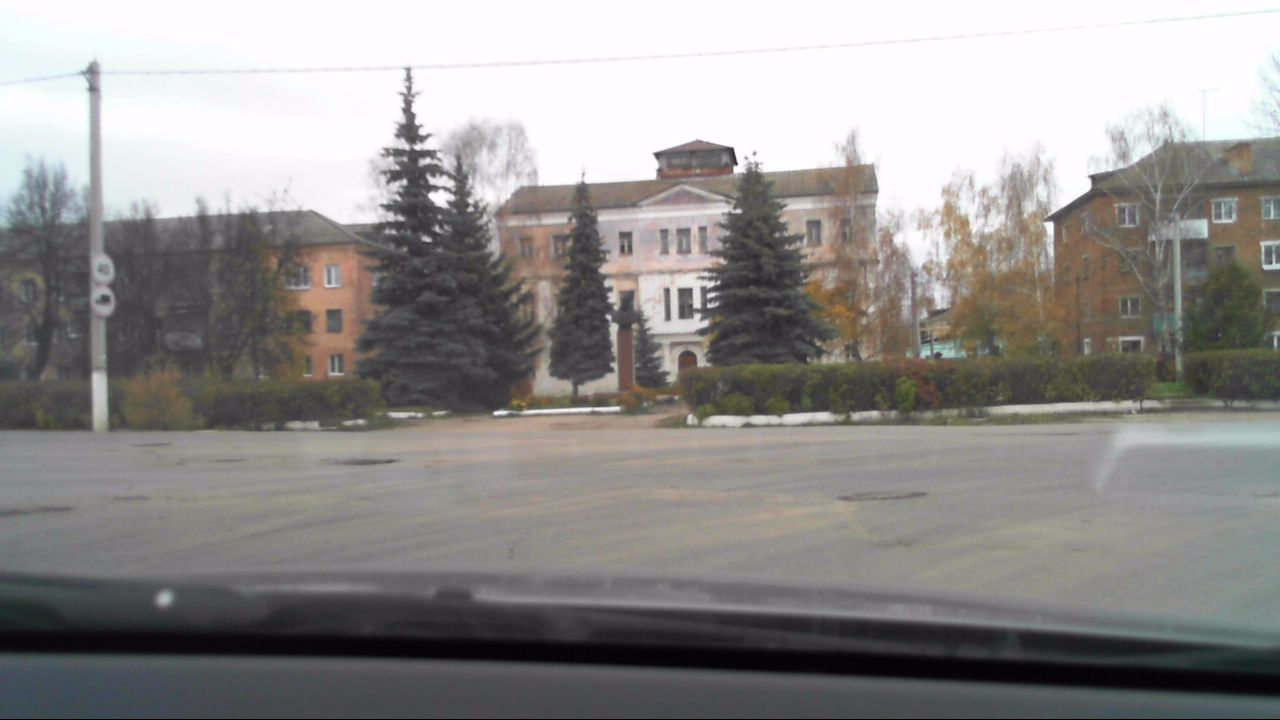speed_warning_40: (91, 254, 117, 284)
